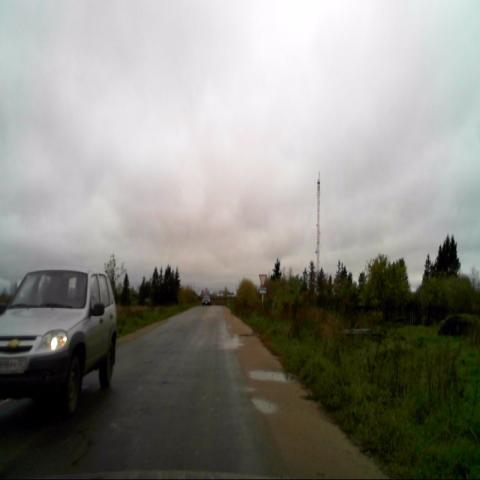2_4: (259, 273, 267, 286)
